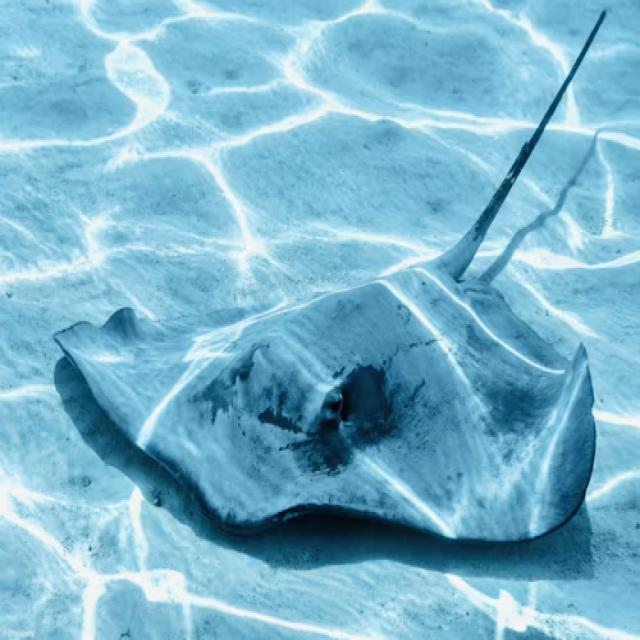stingray: (52, 5, 604, 542)
